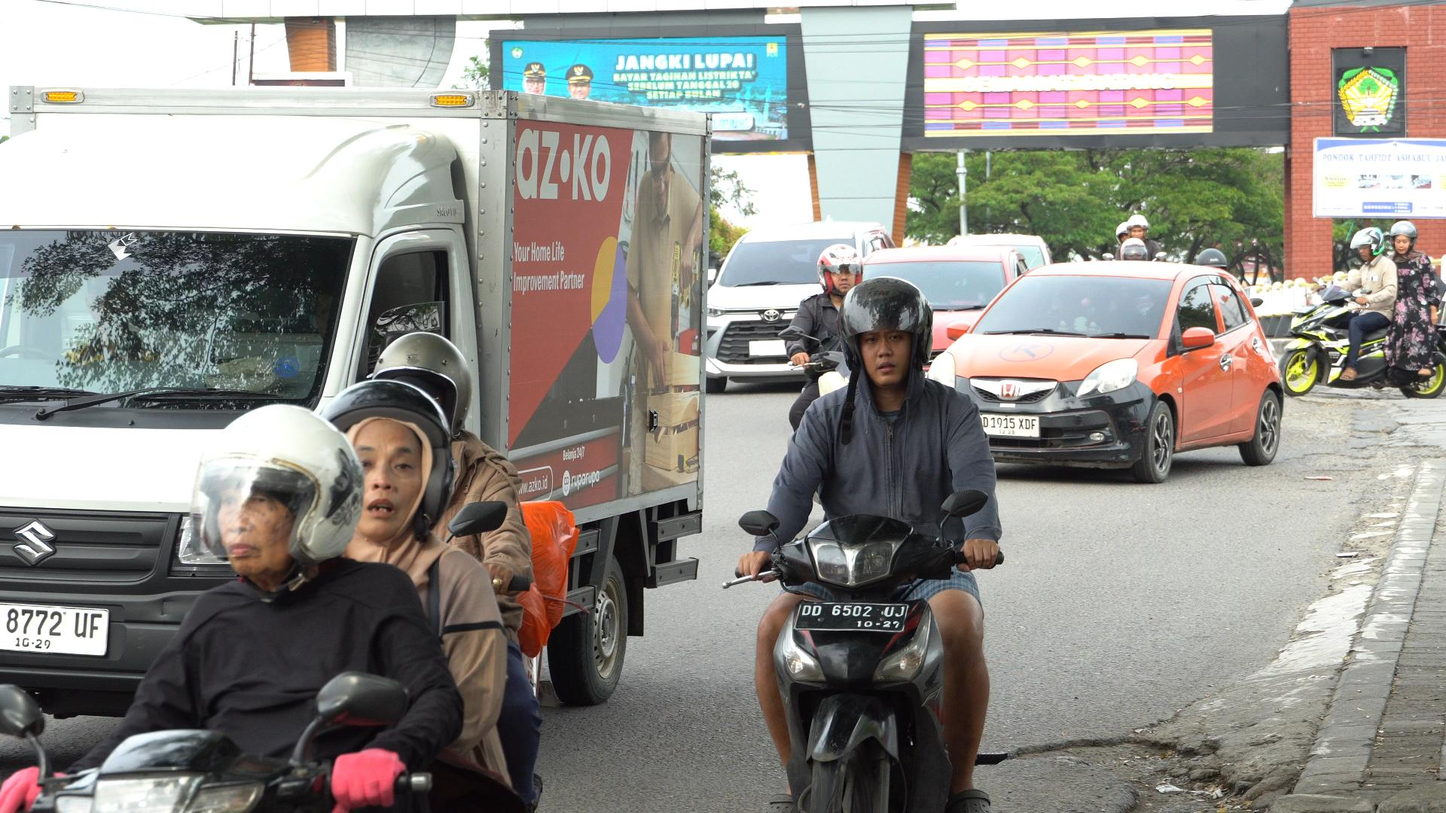number-plate: (791, 592, 908, 638)
